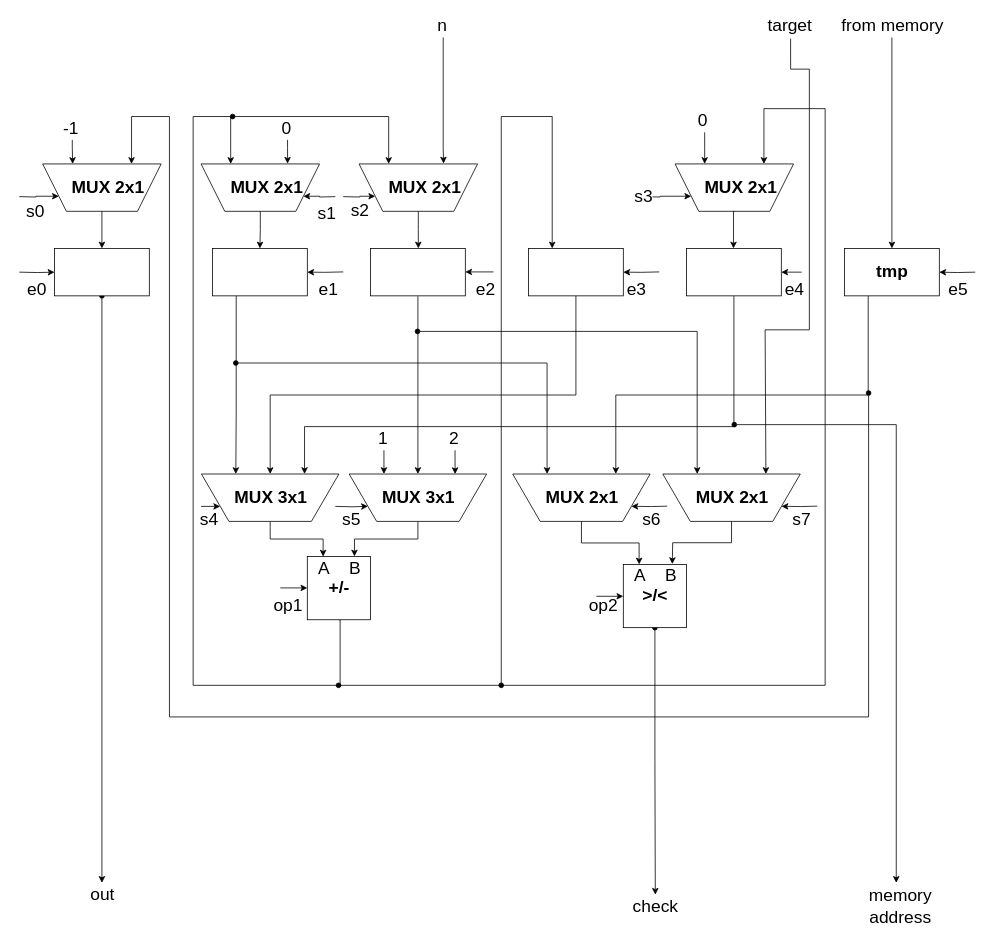
Some shapes in this 995 by 943 pixel diagram are drawn without their labels. The centre of each missing label's shape, as x and y in pixels:
"count" belongs at pixel 733 272.
"index" belongs at pixel 101 272.
"left" belongs at pixel 259 272.
"mid" belongs at pixel 575 272.
"right" belongs at pixel 417 272.
